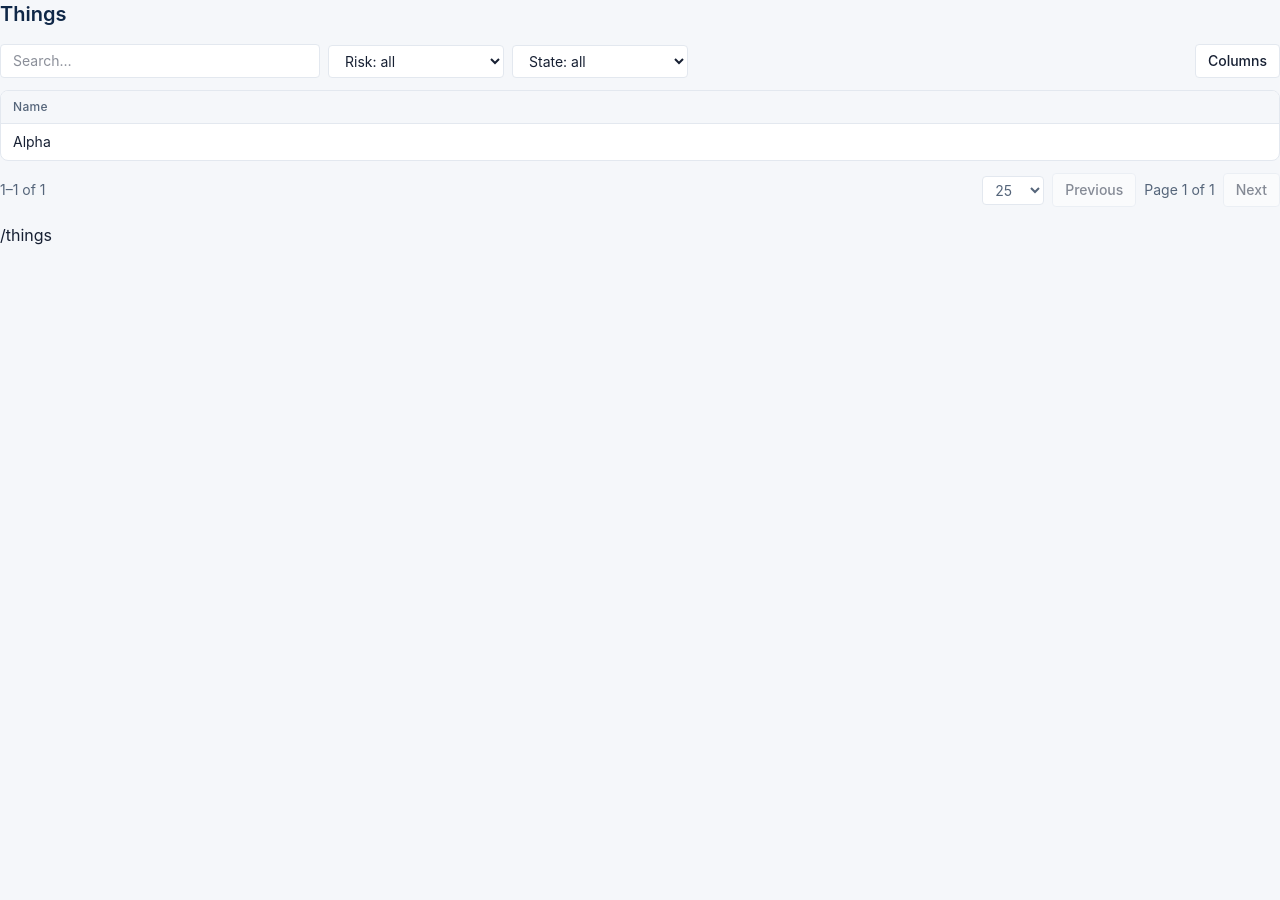
Scenario: Register › row click opens the quick view panel
The image size is (1280, 900).
Click the text "Alpha" at (32, 142), box [1,124,1279,160]
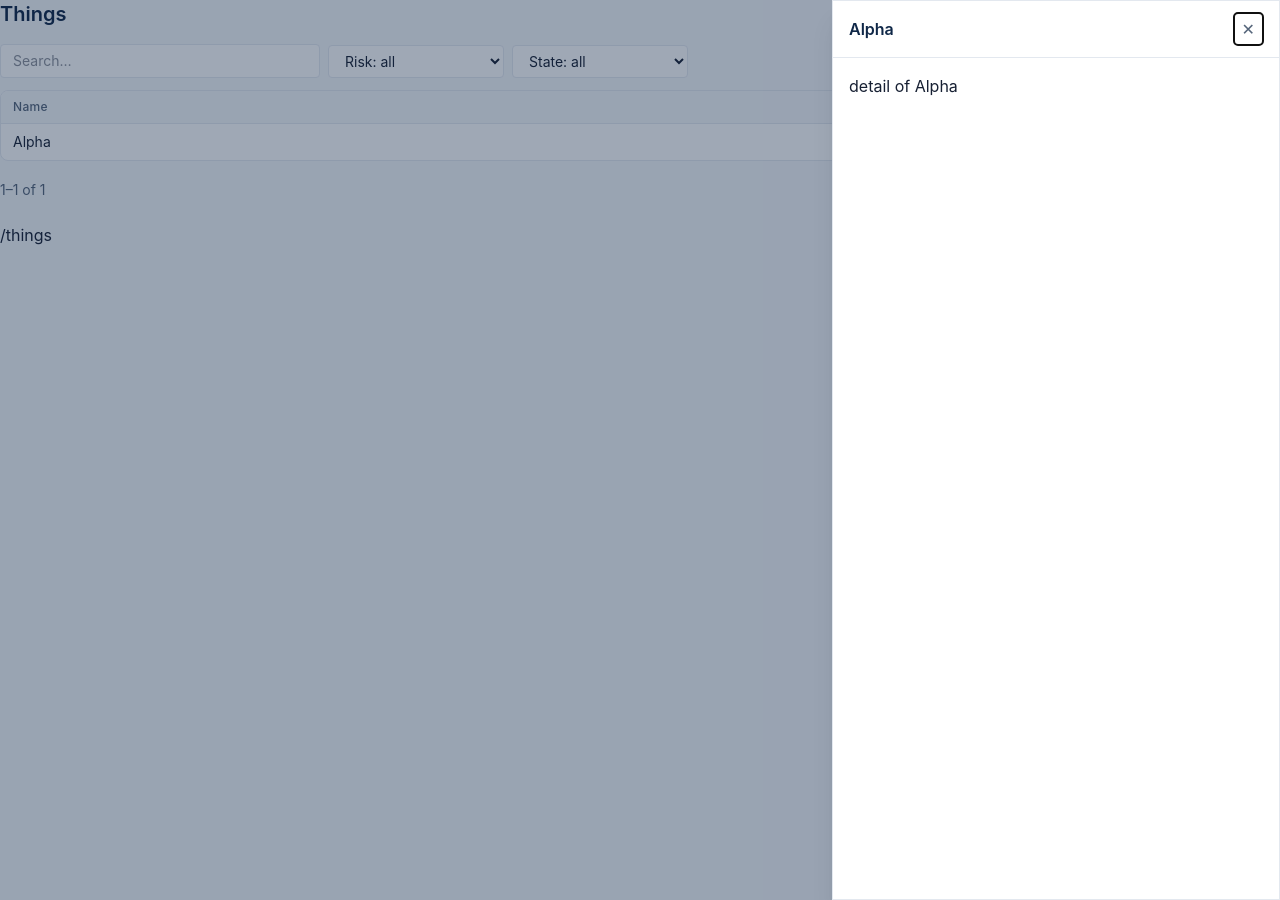
Expected: the text "detail of Alpha" is shown, [849,76,958,96]
